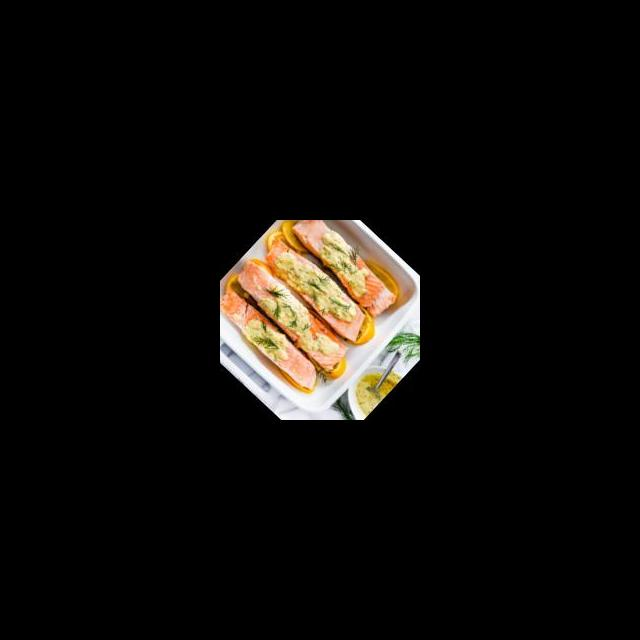ca hoi: (224, 244, 366, 380), (220, 274, 339, 406), (256, 230, 380, 348), (278, 220, 410, 328)
